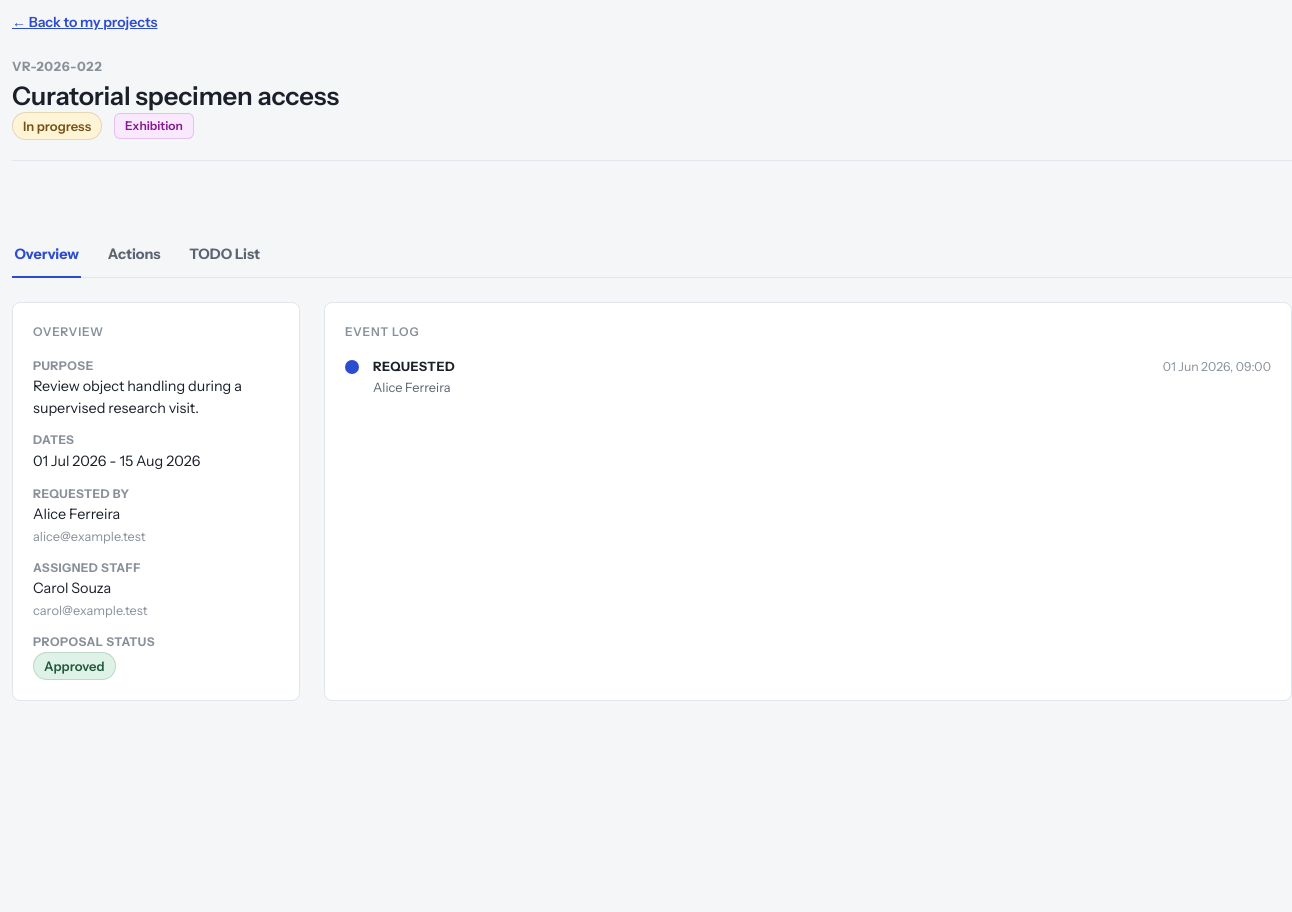
it: ProjectCuratorialDetailPageComponent › shows object access and occurrence log tasks for in-progress projects
Click the tab "Actions": {"x": 134, "y": 255} [105,233,163,278]
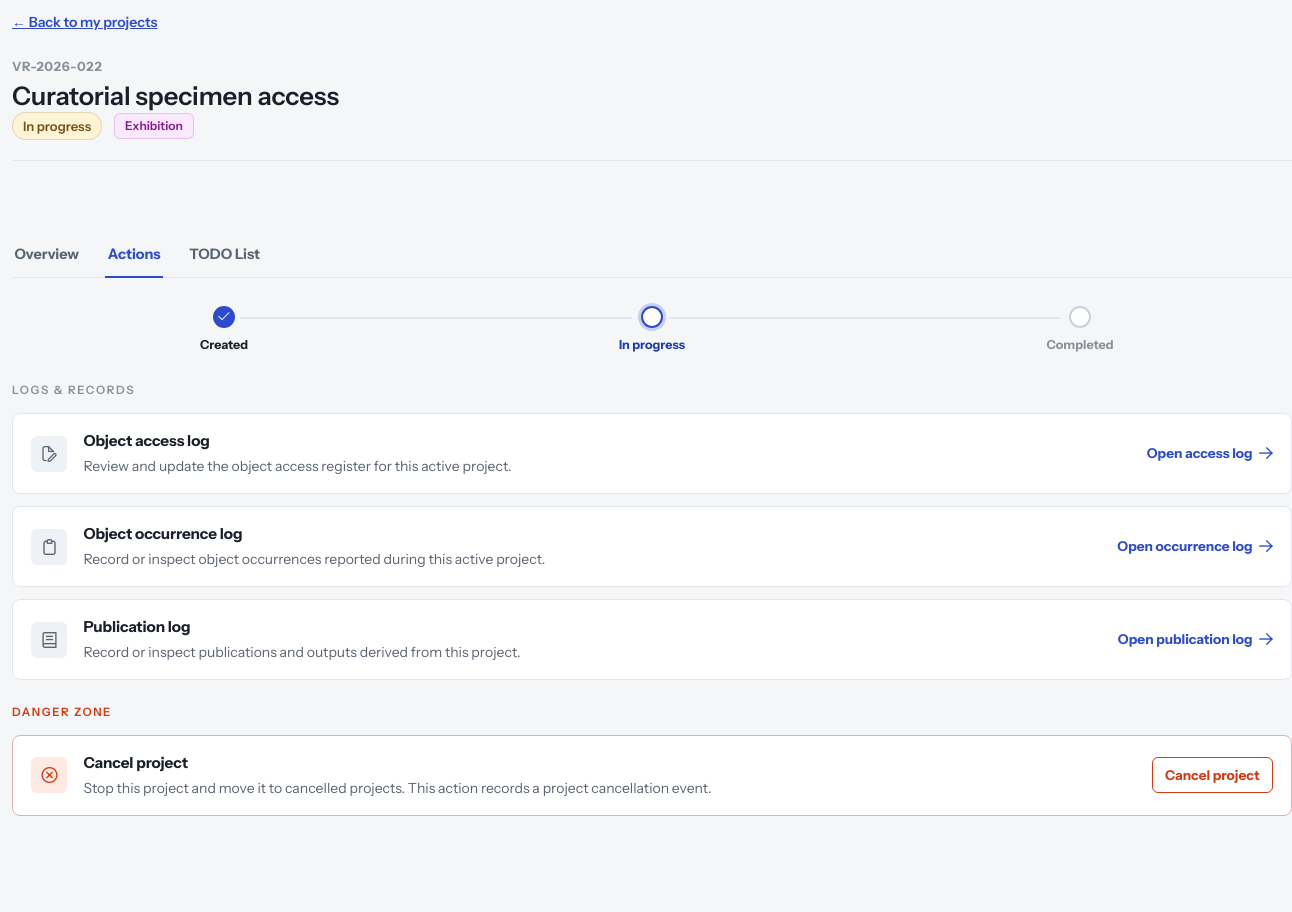
Expected: the link "Open access log" is shown, [1147,443,1273,464]
Expected: the link "Open occurrence log" is shown, [1117,536,1273,557]
Expected: the text "Object access log" is shown, [83,431,210,450]
